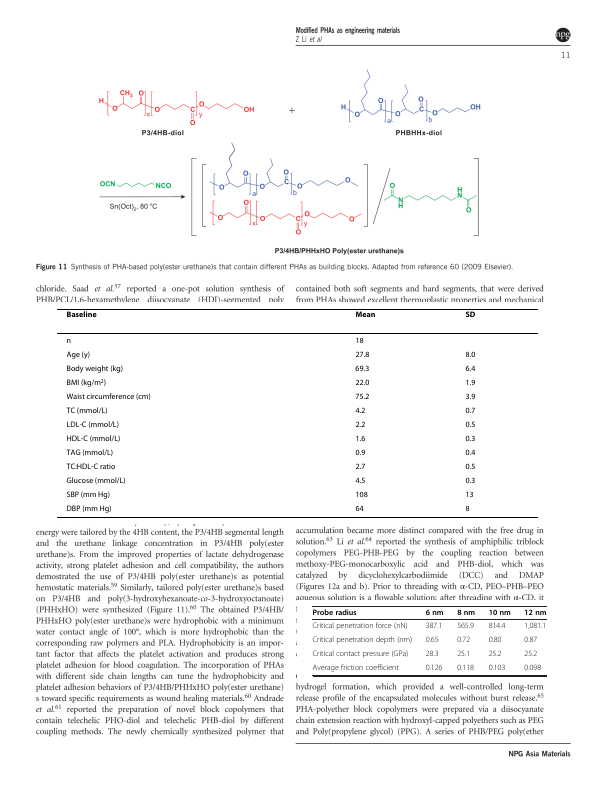borderless: (56, 307, 538, 517), (311, 605, 546, 675)
cell: (312, 636, 413, 645), (312, 650, 409, 659), (312, 622, 408, 631), (66, 392, 152, 402), (312, 664, 400, 673), (66, 476, 127, 486), (66, 364, 124, 374), (66, 434, 121, 444), (66, 420, 120, 430), (66, 462, 116, 472), (66, 448, 114, 458), (66, 504, 112, 514), (66, 490, 111, 500), (66, 406, 108, 416), (66, 378, 107, 388), (312, 609, 358, 617), (66, 310, 98, 318), (66, 350, 91, 360), (523, 622, 547, 631), (488, 609, 512, 617), (523, 609, 547, 617), (354, 310, 376, 318), (456, 622, 475, 631), (456, 664, 475, 673), (523, 664, 542, 673), (425, 622, 443, 631), (488, 622, 506, 631), (425, 664, 443, 673), (488, 664, 506, 673), (456, 609, 476, 617), (354, 350, 370, 360), (354, 364, 370, 374), (354, 378, 370, 388), (354, 392, 370, 402), (425, 609, 444, 617), (354, 490, 369, 500), (456, 636, 471, 645), (523, 636, 538, 645), (456, 650, 471, 659), (523, 650, 538, 659), (425, 636, 439, 645), (488, 636, 502, 645), (425, 650, 439, 659), (488, 650, 502, 659), (464, 350, 476, 360), (464, 364, 476, 374), (464, 378, 476, 388), (464, 392, 476, 402), (354, 406, 366, 416), (464, 406, 476, 416), (354, 420, 366, 430), (464, 420, 476, 430), (354, 434, 366, 444), (464, 434, 476, 444), (354, 448, 366, 458), (464, 448, 476, 458), (354, 462, 366, 472), (464, 462, 476, 472), (354, 476, 366, 486), (354, 336, 365, 346), (465, 476, 476, 486), (464, 490, 475, 500), (354, 504, 365, 514), (464, 310, 476, 318), (464, 504, 471, 514), (66, 336, 72, 346)
